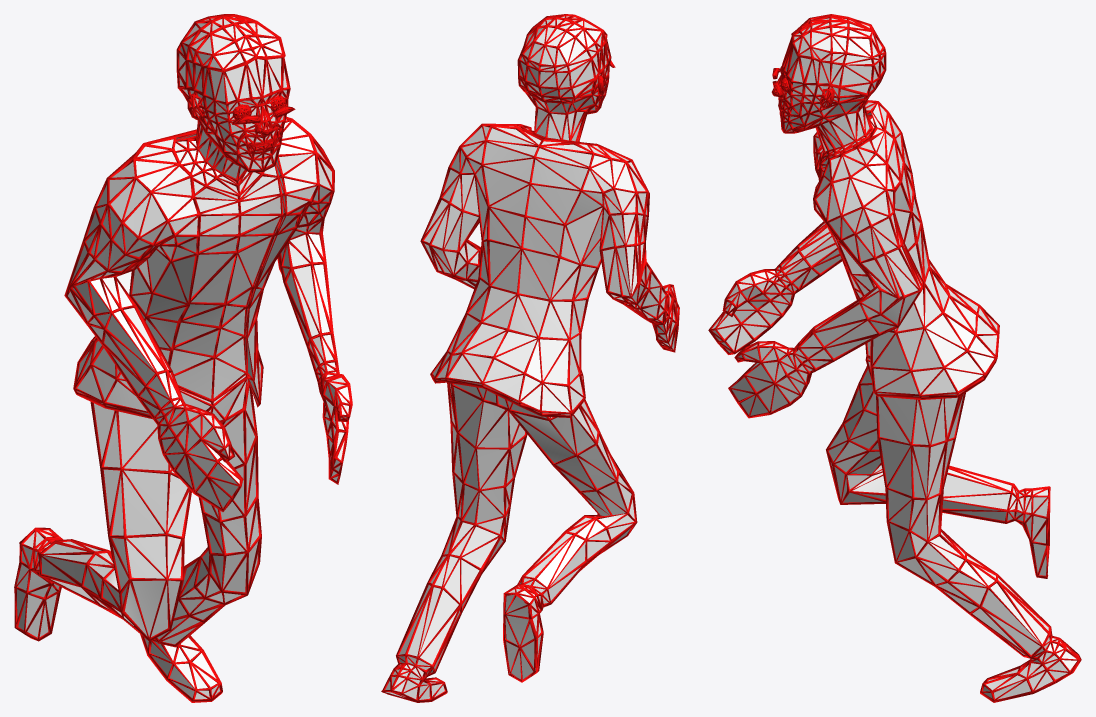
Rendered from elegantRun_000004.obj.
3 views of the same model, side by side, from view 1: azimuth 30°, elevation 25°; view 2: azimuth 150°, elevation 25°; view 3: azimuth 270°, elevation 25° (orthographic). The views are drawn at different scales.
Parts seen in each view (by area): view 1: BaseHuman_Cylinder.002; view 2: BaseHuman_Cylinder.002; view 3: BaseHuman_Cylinder.002.
Boxes of the visible parts, x1,y1,x2,y2 form: BaseHuman_Cylinder.002: (14, 14, 352, 702); BaseHuman_Cylinder.002: (381, 14, 679, 702); BaseHuman_Cylinder.002: (708, 14, 1081, 702).
Size of the model in its own units: 1.57 by 4.52 by 2.36.
